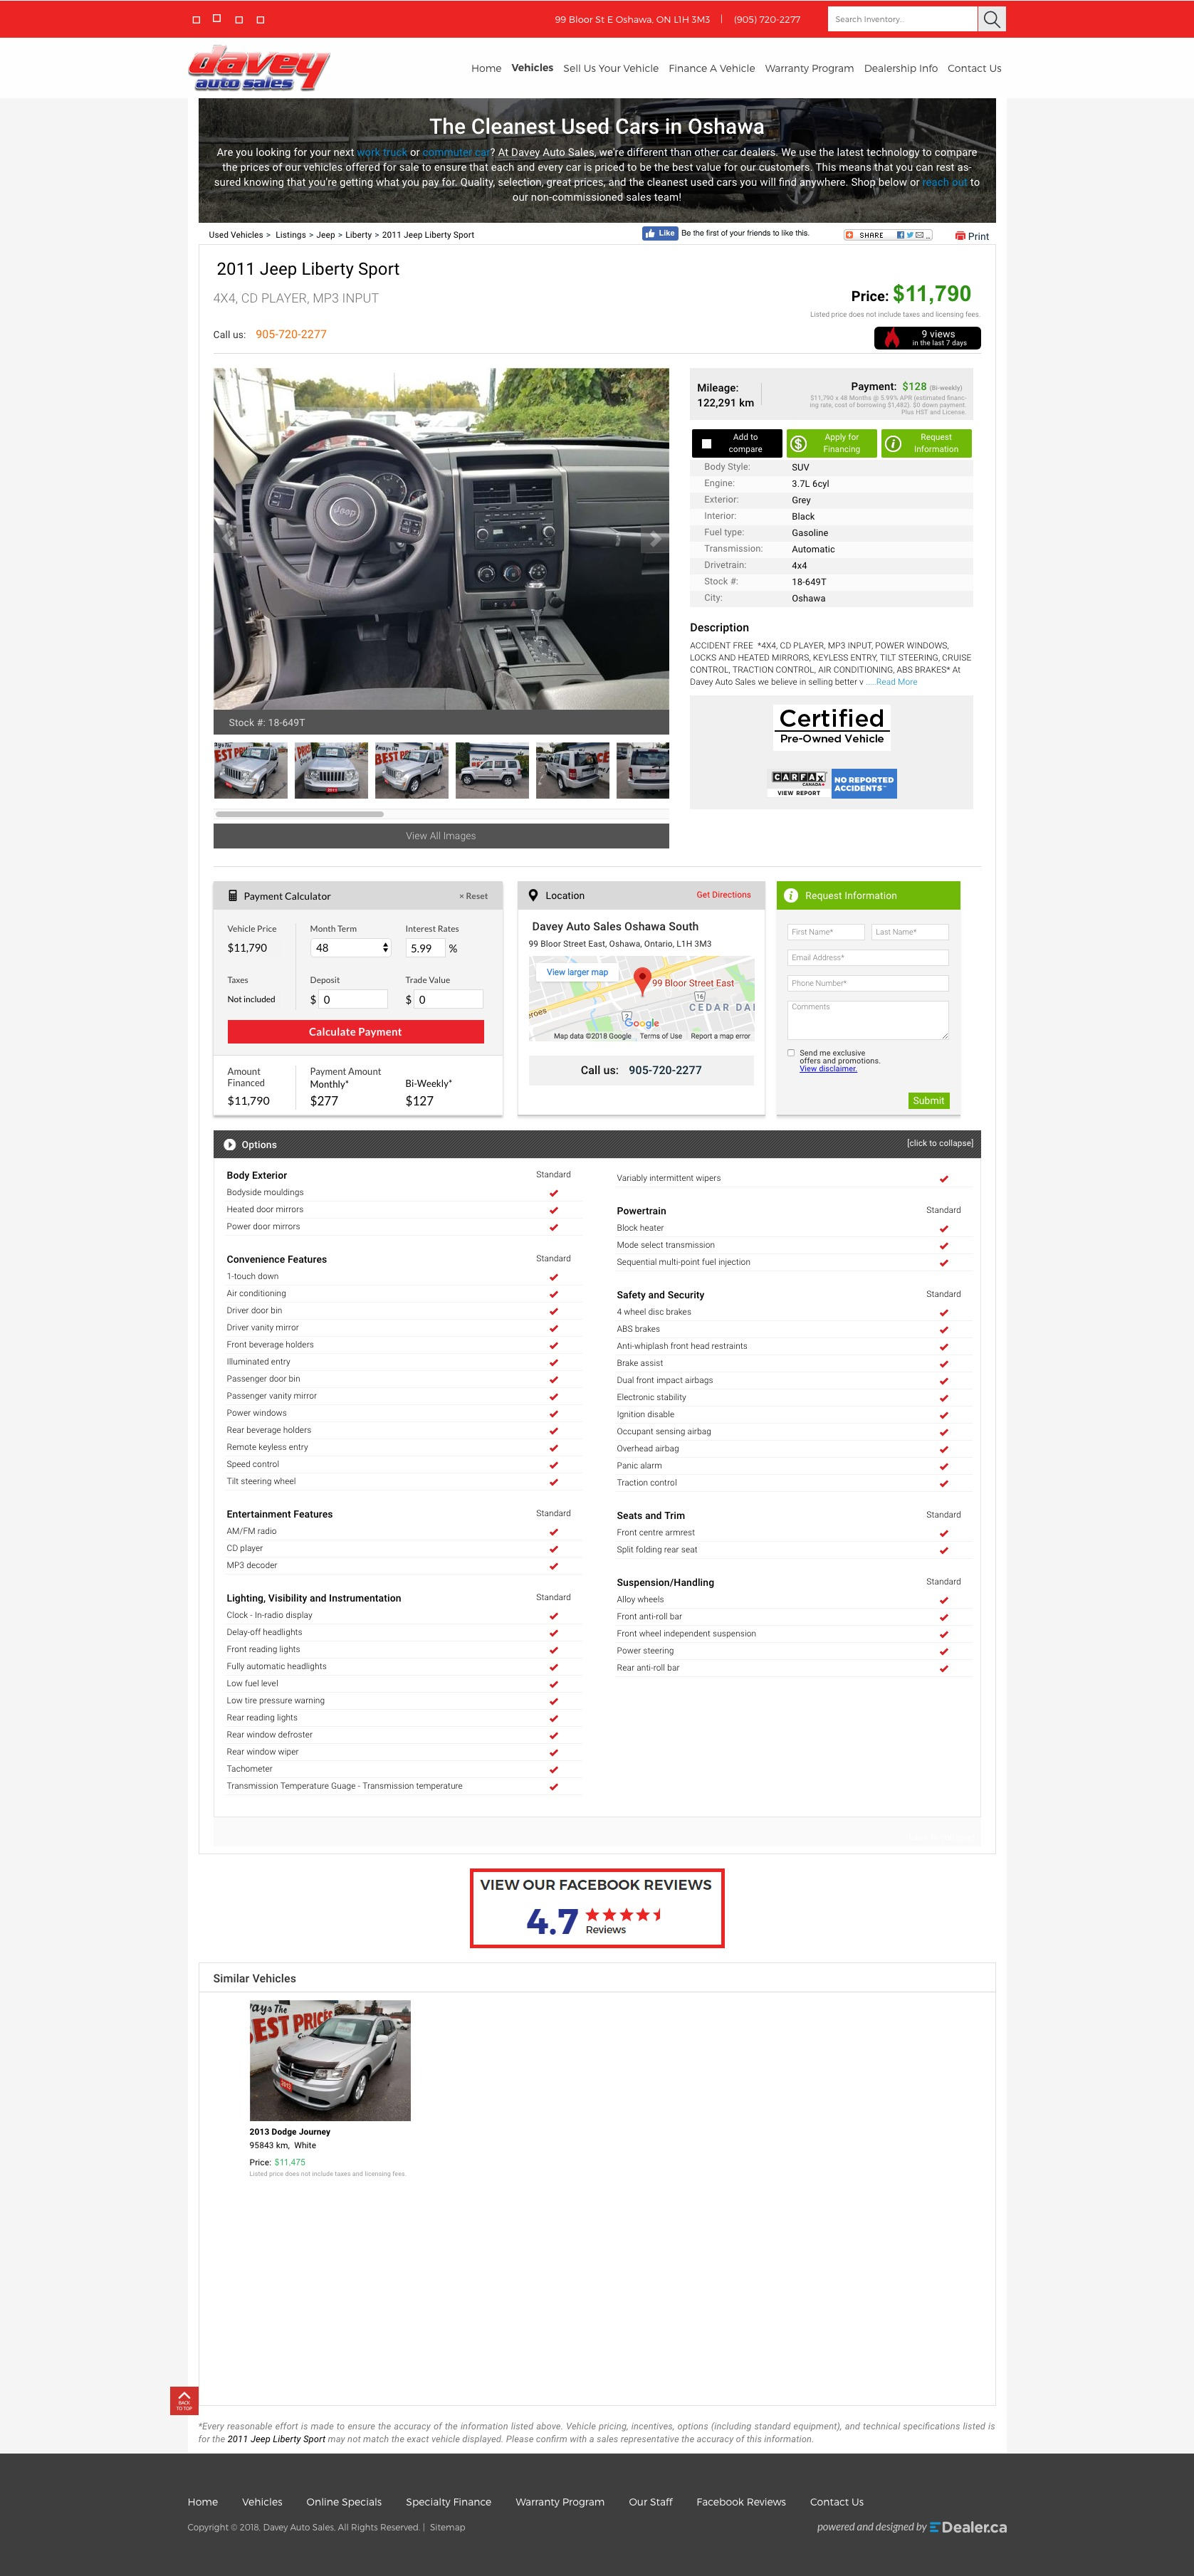car: (641, 524, 670, 555)
